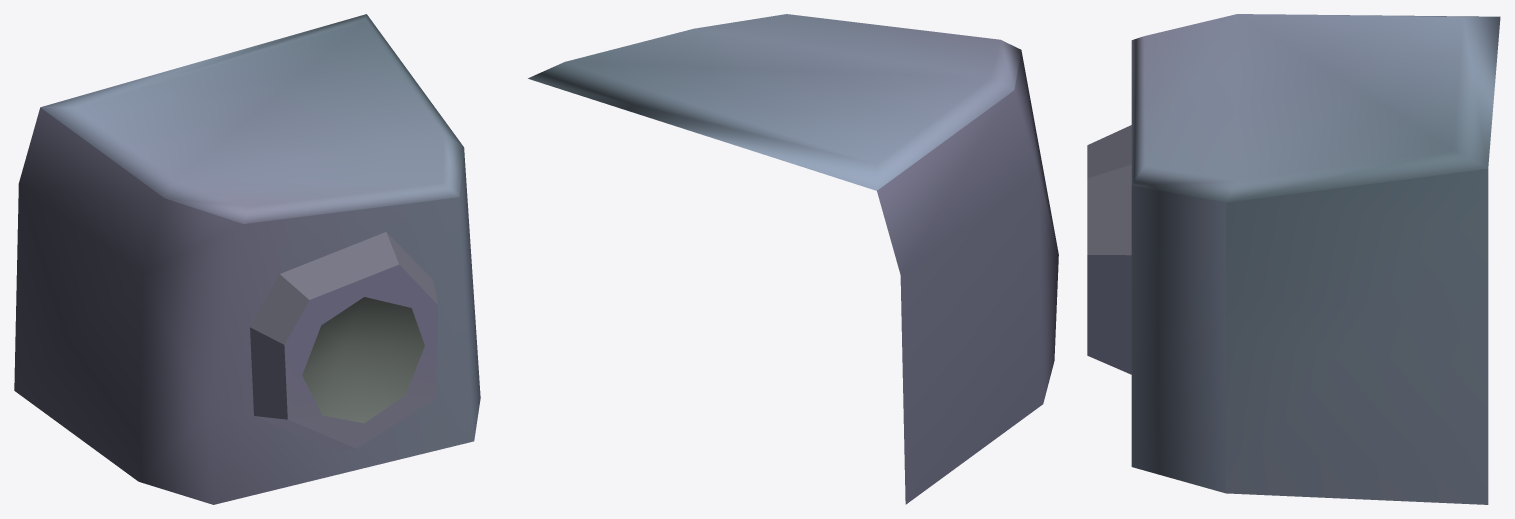
File: Light.glb
3 views of the same model, side by side, from view 1: azimuth 30°, elevation 25°; view 2: azimuth 150°, elevation 25°; view 3: azimuth 270°, elevation 25° (orthographic). The views are drawn at different scales.
Parts seen in each view (by area): view 1: Light; view 2: Light; view 3: Light.
Part boxes in pixels (bbox=[...]): Light: bbox=[14, 14, 480, 504]; Light: bbox=[528, 14, 1058, 504]; Light: bbox=[1087, 14, 1500, 504].
Size of the model in its own units: 0.4103 by 0.3281 by 0.3655.
